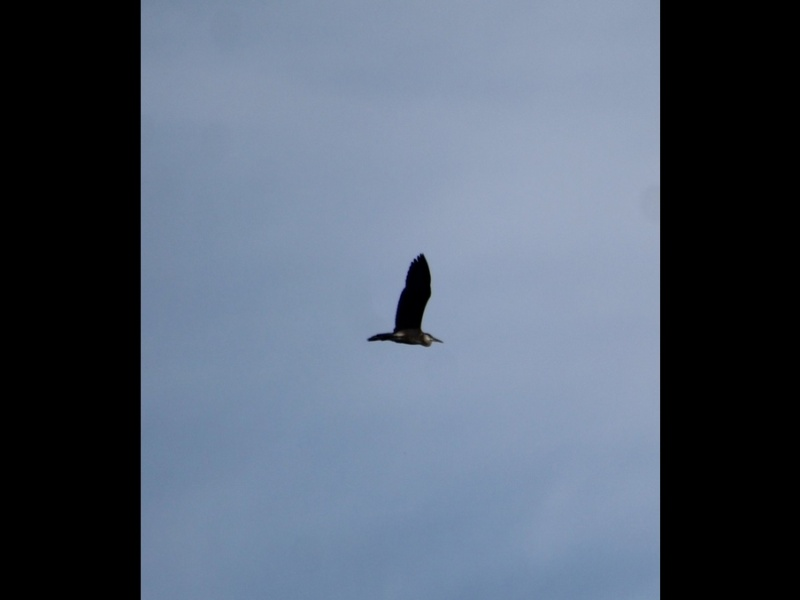heron: (362, 249, 446, 358)
